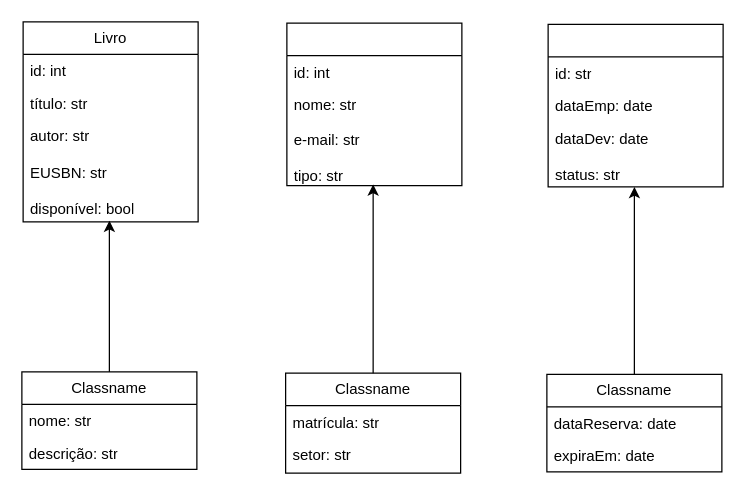
The diagram is 745 pixels wide and 499 high, and some of its shapes have lost their labels. Here are the shapes that lost their labels. From the top down, the box of each, then its label:
(286, 22, 462, 186): Usuário
(547, 23, 723, 187): Empréstimo
